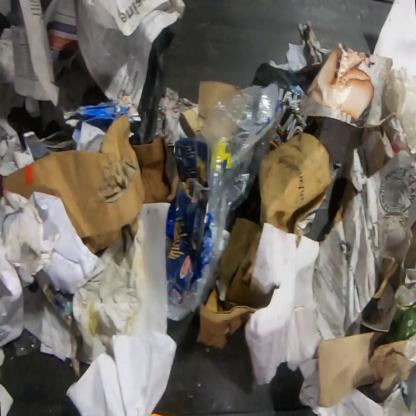cardboard: (0, 113, 146, 258), (196, 217, 274, 350), (165, 137, 218, 306), (258, 132, 332, 250), (315, 329, 416, 409), (61, 95, 142, 150), (130, 136, 171, 204), (198, 80, 240, 123), (297, 193, 327, 237), (361, 125, 386, 177)
soft_plastic: (167, 81, 281, 321), (251, 62, 327, 156), (401, 329, 415, 415)
